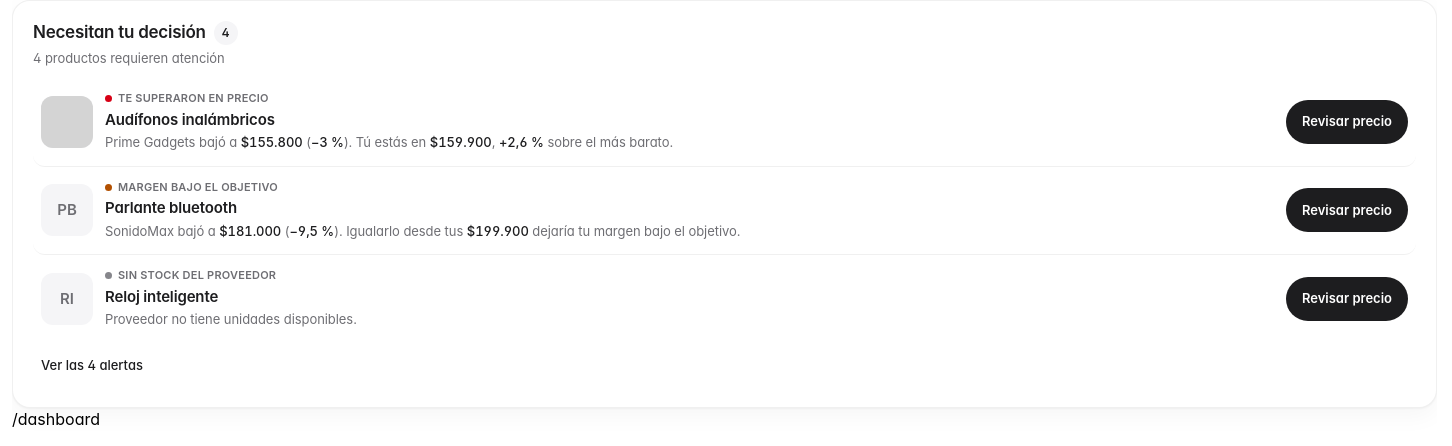
Test case: AlertasDecision › abre el producto al activar Revisar precio
Click the button with aria-label "Revisar precio de Audífonos inalámbricos" at x=1347, y=122, box [1286,100,1408,144]
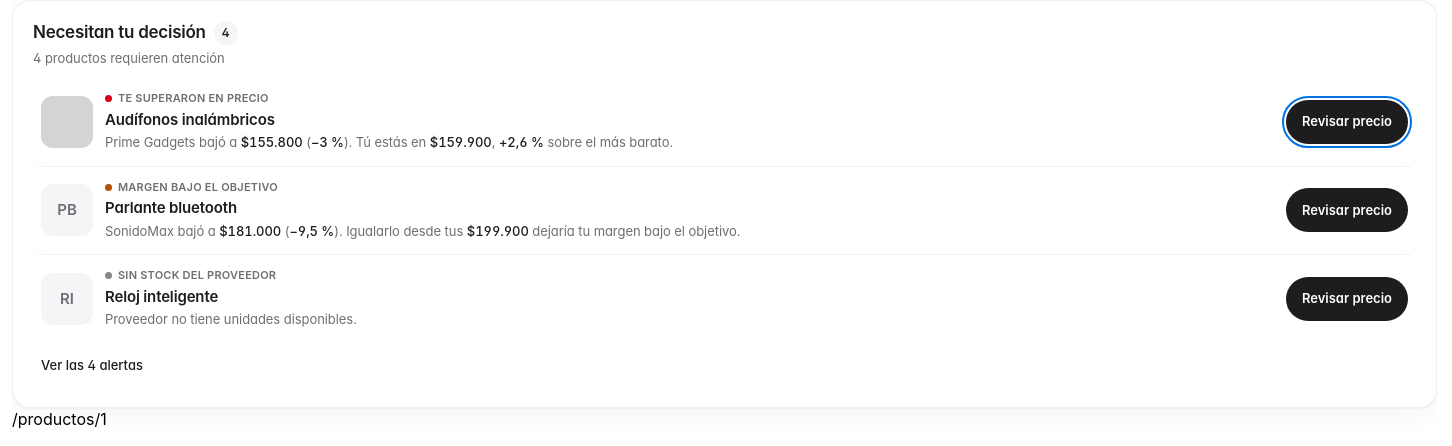
Expected: the text named "Ruta actual" reads "/productos/1", [12,409,107,429]
